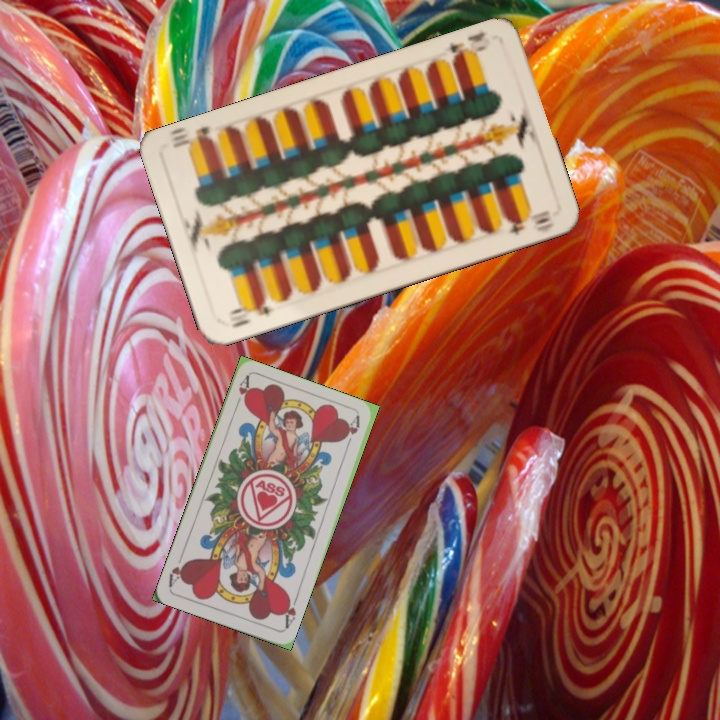E10: (445, 28, 493, 67), (225, 295, 273, 331)
HA: (278, 592, 301, 631), (231, 373, 253, 412)
